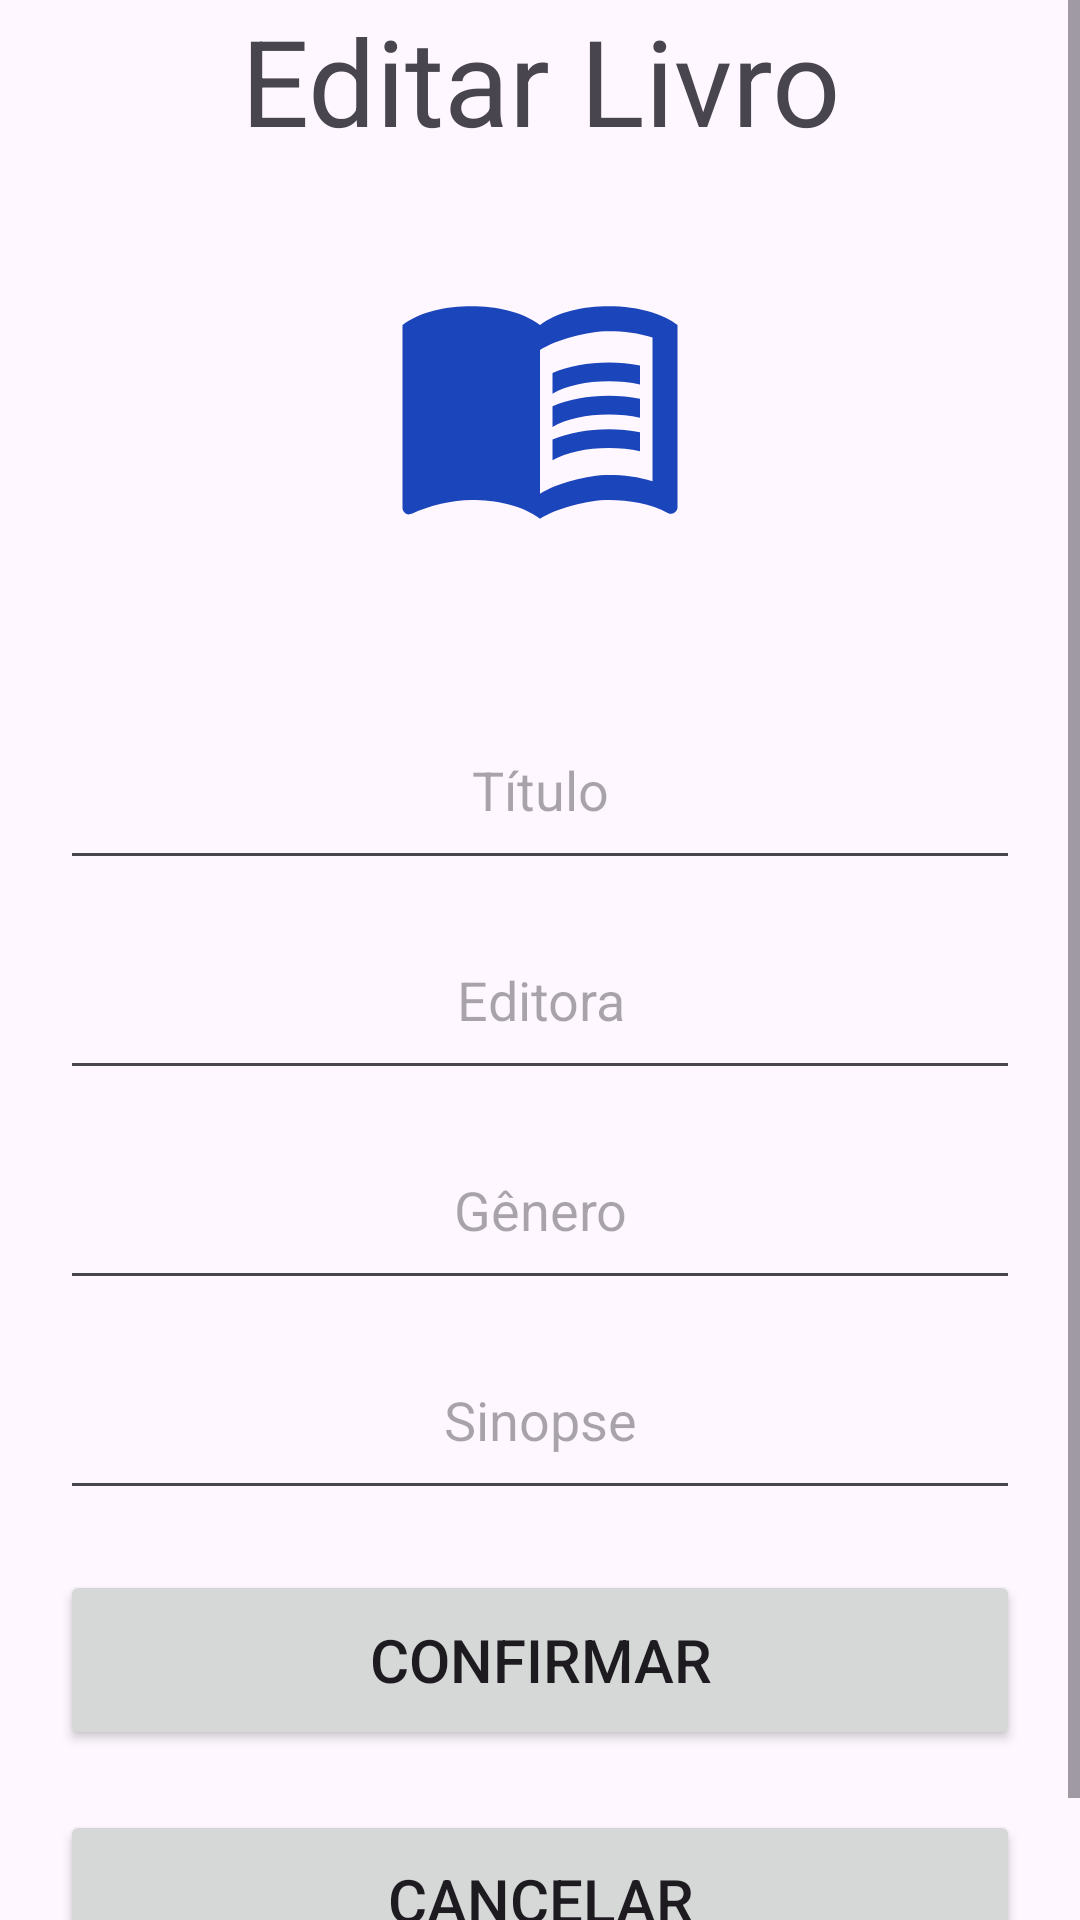

Named icons in this screenshot (1080x1920) and their centers, (x=x, y=y):
book: (x=540, y=412)
